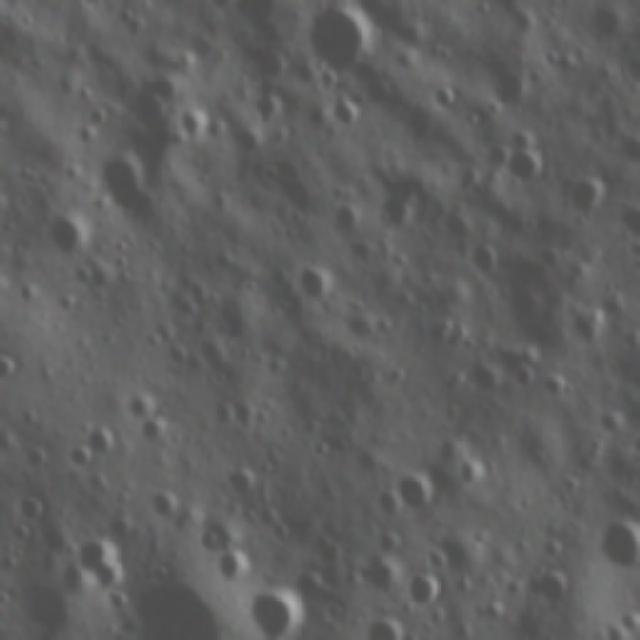crater: (104, 569, 231, 640), (308, 0, 392, 74), (100, 148, 171, 228), (238, 577, 314, 640), (18, 581, 79, 640), (580, 516, 640, 575), (522, 567, 582, 622), (73, 528, 122, 590), (391, 468, 451, 518), (563, 171, 623, 220), (44, 212, 94, 268), (465, 350, 507, 405), (452, 448, 497, 499), (76, 417, 127, 461), (392, 570, 445, 612), (293, 255, 335, 300), (570, 305, 602, 352), (10, 490, 47, 530), (511, 145, 546, 187), (134, 421, 178, 452), (354, 614, 406, 640), (64, 444, 94, 479), (0, 344, 20, 388), (74, 0, 106, 25)
